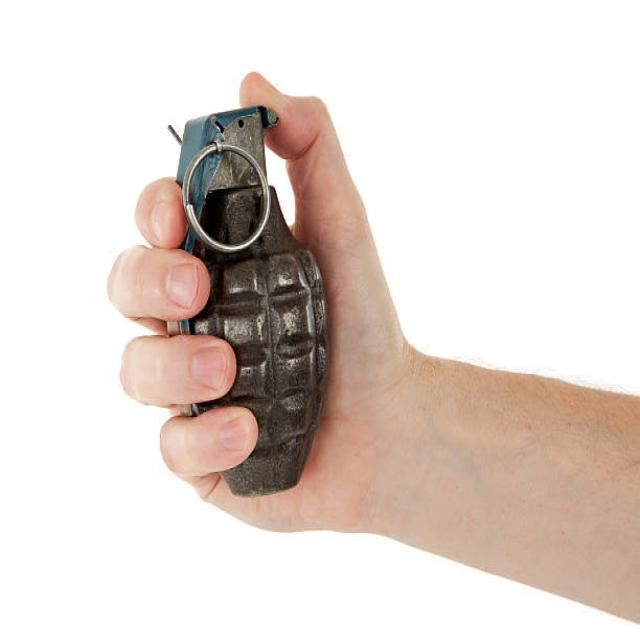grenade: (161, 103, 335, 501)
